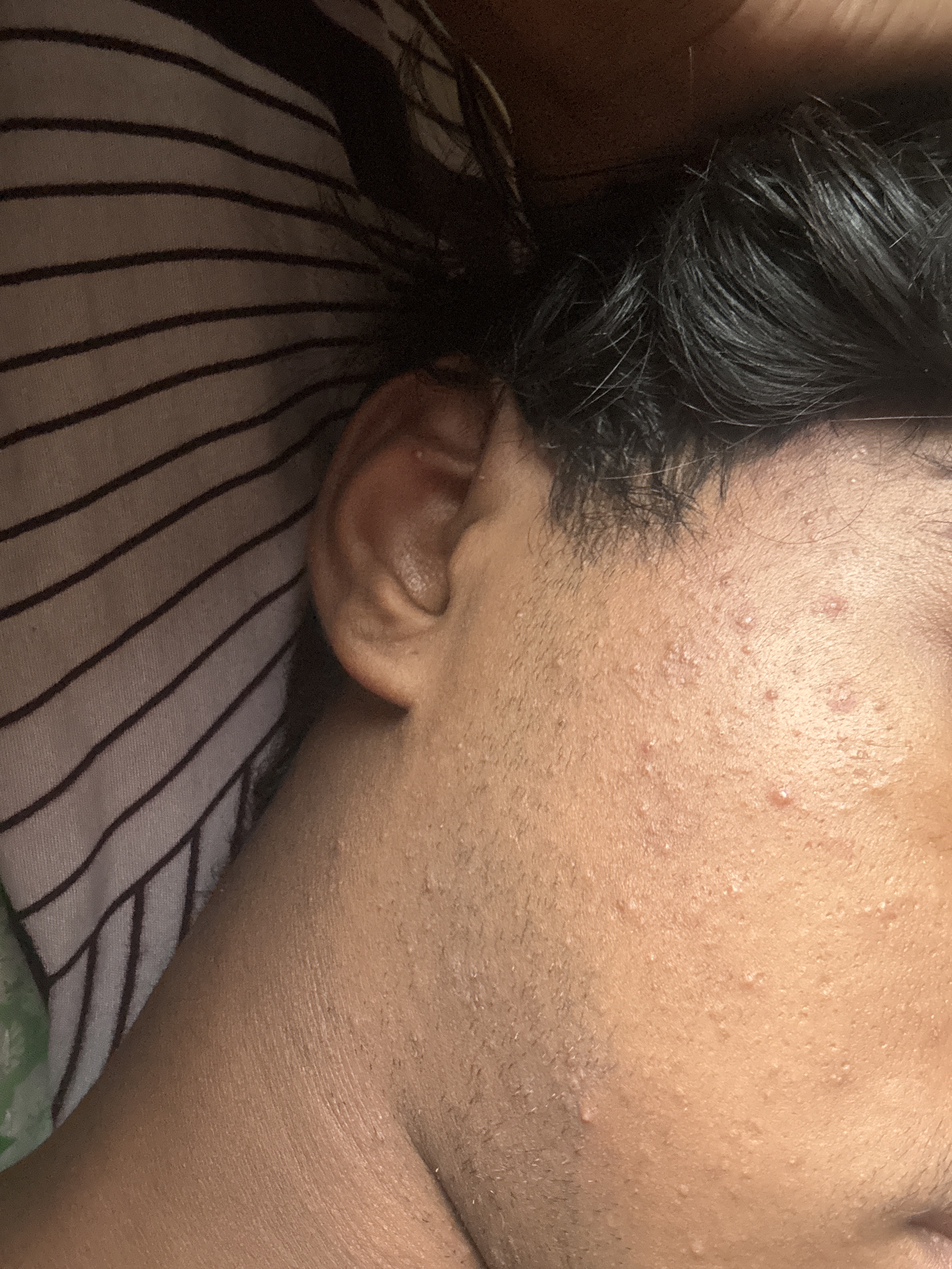closed_comedone: (658, 637, 706, 689)
cyst: (769, 785, 791, 808), (736, 610, 756, 634), (826, 599, 844, 613), (579, 1110, 595, 1124), (847, 473, 860, 489)
pustule: (802, 514, 816, 529)
